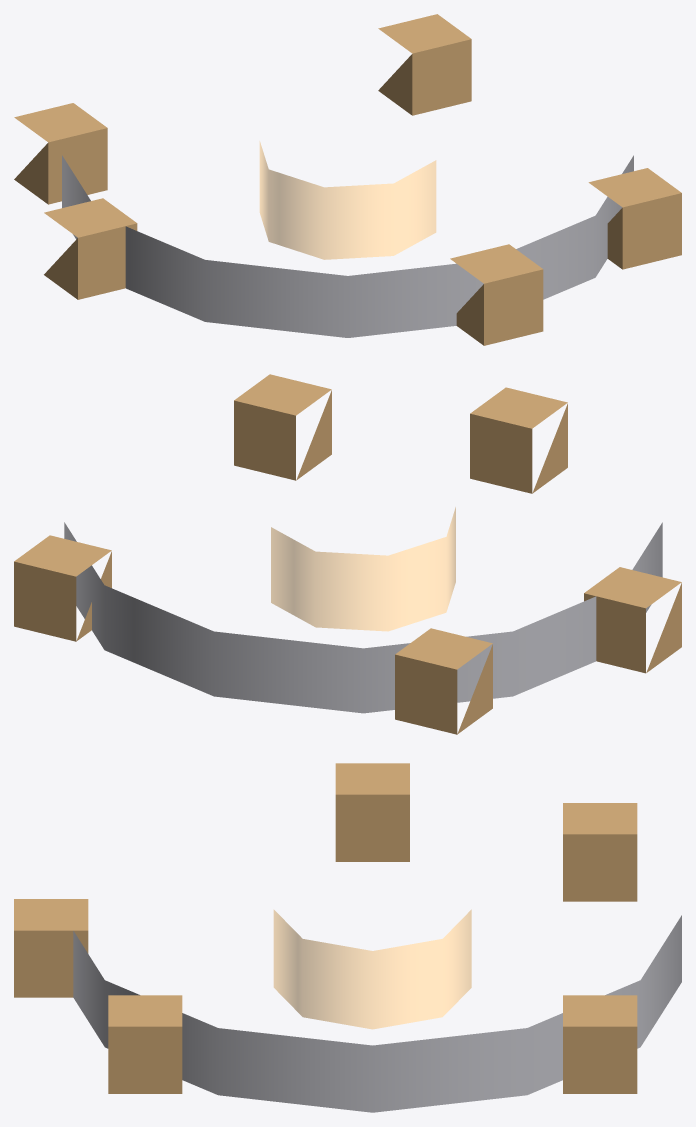
File: engranajes_desgastados.glb
3 views of the same model, one above another, from view 1: azimuth 30°, elevation 25°; view 2: azimuth 150°, elevation 25°; view 3: azimuth 270°, elevation 25° (orthographic). The views are drawn at different scales.
Visible parts, largest first — view 1: Accent, Base, Glow; view 2: Accent, Base, Glow; view 3: Accent, Base, Glow.
Boxes of the visible parts, x1=… form: Accent: x1=14, y1=14, x2=681, y2=345; Base: x1=62, y1=155, x2=633, y2=337; Glow: x1=259, y1=141, x2=436, y2=259; Accent: x1=14, y1=374, x2=681, y2=734; Base: x1=64, y1=522, x2=662, y2=713; Glow: x1=271, y1=507, x2=455, y2=631; Accent: x1=14, y1=763, x2=637, y2=1093; Base: x1=73, y1=915, x2=681, y2=1112; Glow: x1=273, y1=909, x2=471, y2=1029.
Bounding box in the file's own units: 0.54 × 0.07 × 0.54.
